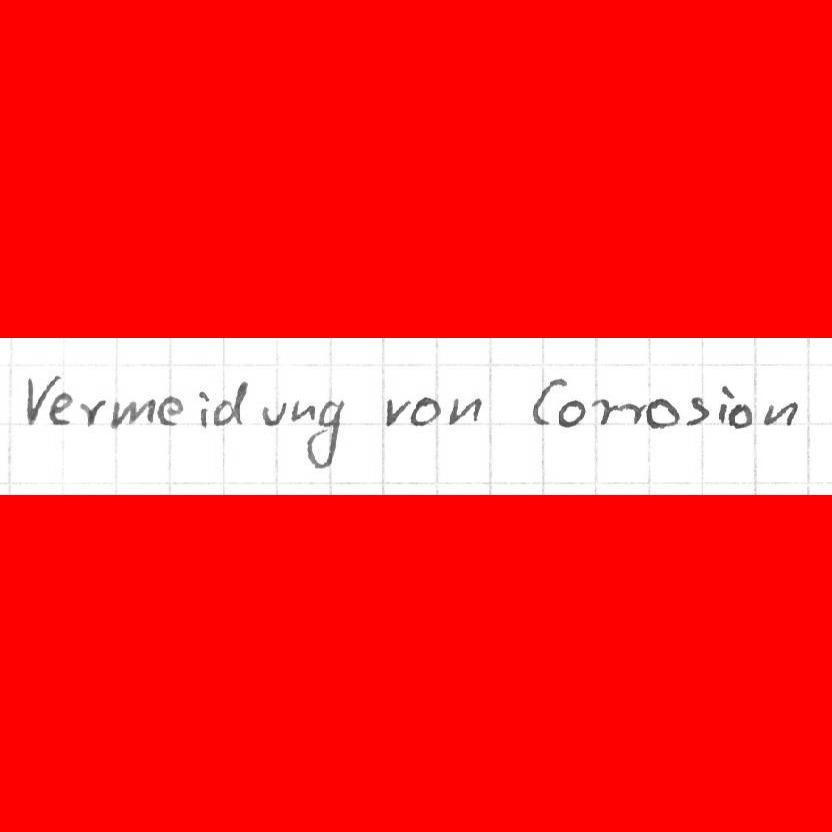Char: (306, 399, 346, 469), (23, 375, 55, 426), (213, 382, 249, 426), (528, 375, 555, 428), (113, 396, 153, 430), (447, 392, 484, 427), (646, 396, 680, 429), (761, 398, 796, 428), (47, 390, 74, 426), (410, 395, 439, 427), (156, 393, 183, 426), (685, 394, 711, 427), (557, 398, 585, 428), (385, 395, 409, 429), (77, 397, 104, 427), (590, 395, 615, 426), (726, 401, 752, 429), (260, 399, 286, 426), (289, 398, 316, 424), (618, 400, 646, 425), (717, 386, 734, 426), (196, 389, 211, 428)
